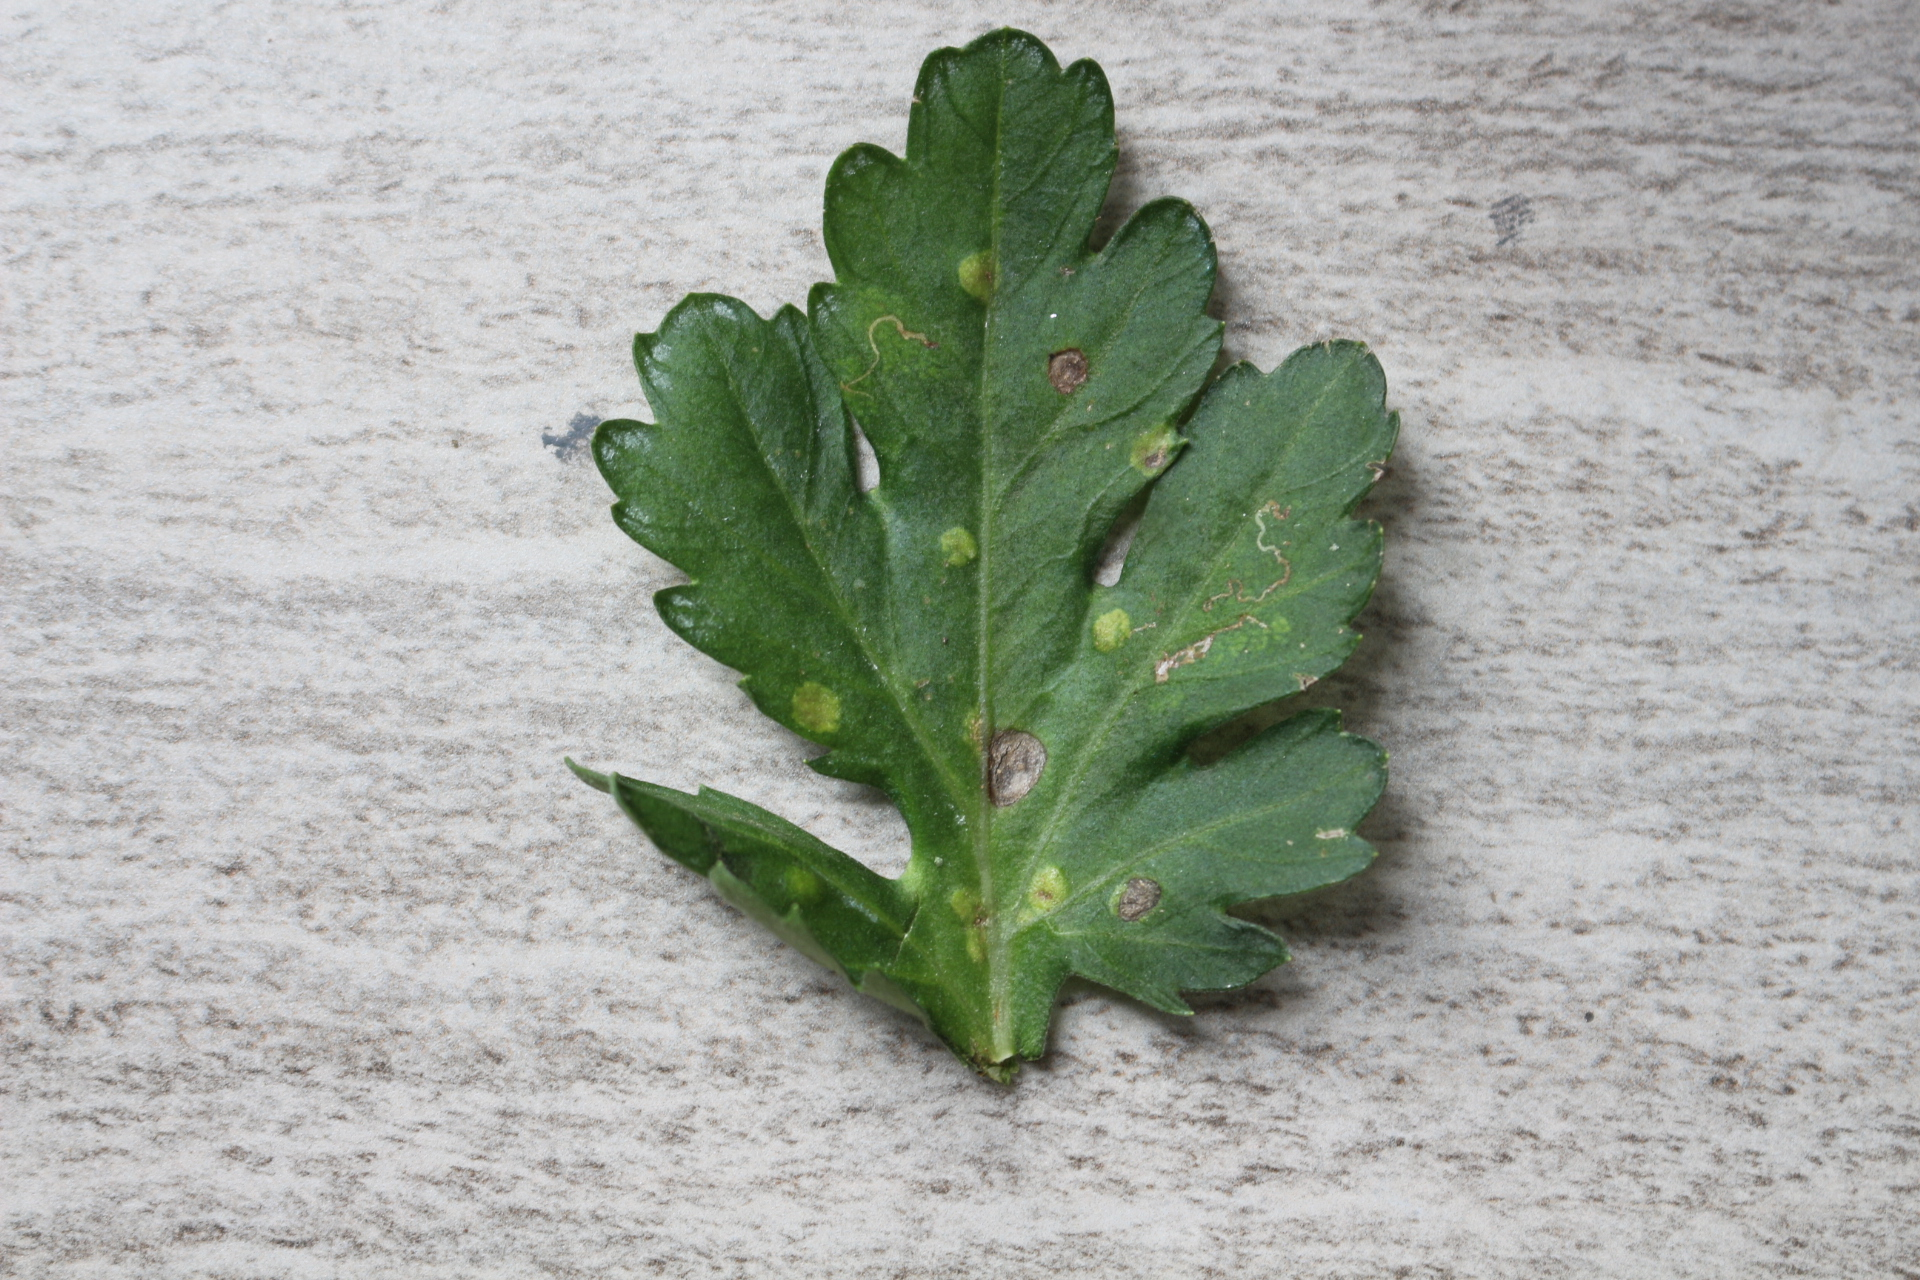namden: (974, 721, 1054, 810), (1113, 871, 1164, 921), (1047, 347, 1091, 393)
namsung: (934, 881, 993, 960), (789, 679, 846, 734), (1129, 424, 1180, 483), (953, 246, 1000, 304), (771, 863, 833, 907), (1089, 604, 1139, 656), (931, 521, 986, 569), (1029, 860, 1069, 919)
